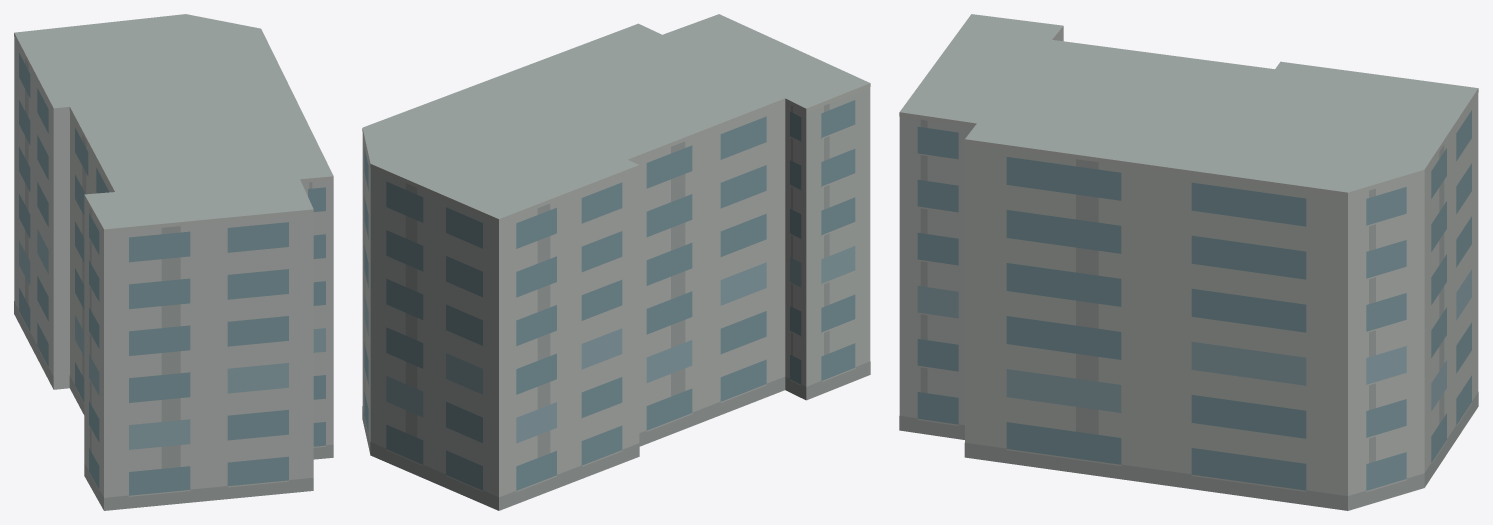
Rendered from survey-upis-32950936.glb.
The picture shows the model from 3 angles, left to right: view 1: azimuth 30°, elevation 25°; view 2: azimuth 150°, elevation 25°; view 3: azimuth 270°, elevation 25°; orthographic projection. The views are drawn at different scales.
Parts seen in each view (by area): view 1: survey-upis-32950936.tmp; view 2: survey-upis-32950936.tmp; view 3: survey-upis-32950936.tmp.
Part boxes in pixels (box(x1,y1,x2,y2)): survey-upis-32950936.tmp: box(14, 14, 333, 510); survey-upis-32950936.tmp: box(362, 14, 870, 510); survey-upis-32950936.tmp: box(899, 14, 1478, 510).
Bounding box in the file's own units: 21.18 × 17.6 × 29.02.
